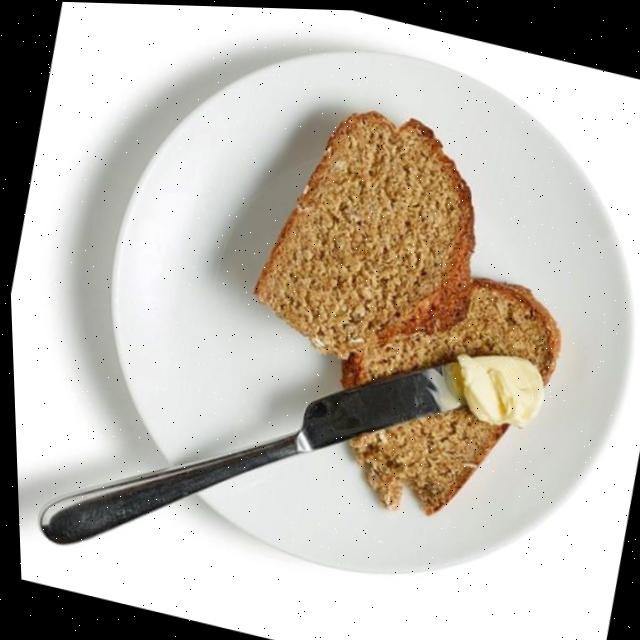Bread: (252, 109, 471, 356), (338, 275, 557, 385), (345, 404, 504, 512)
